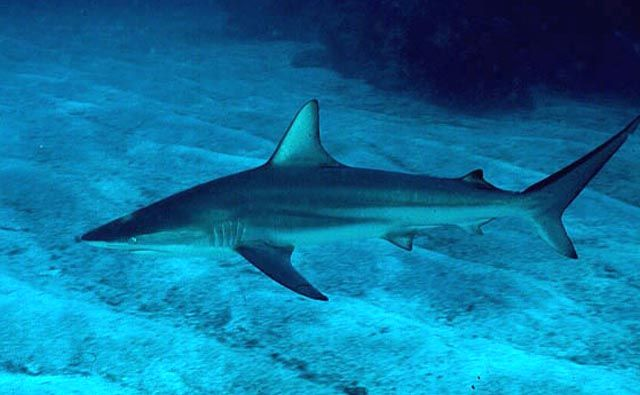fish: (79, 100, 639, 302)
